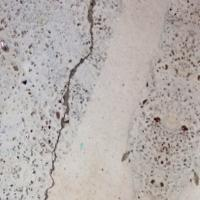crack: (38, 0, 116, 199)
